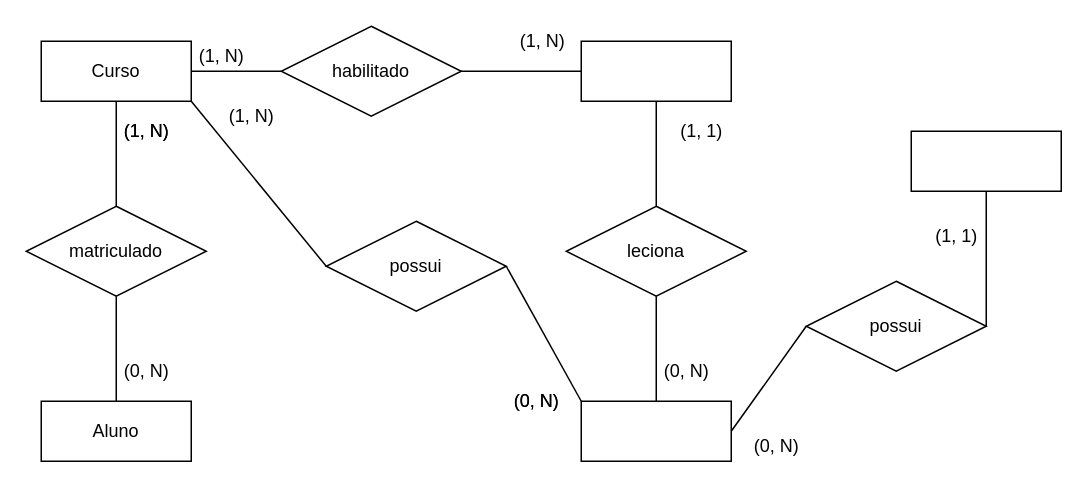
This 1088x488 diagram has some shape labels left out. The shapes that lost their labels are listed below. From the top down, each one's centre as x and y in pixels, then its label:
the point at 655,70: Professor
the point at 985,160: Sala
the point at 655,430: Turma
